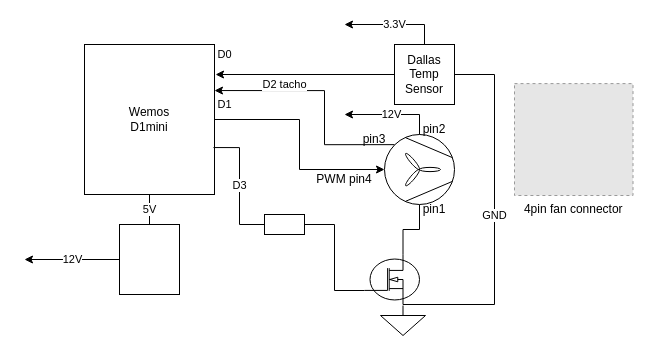
This 651x353 diagram has some shape labels left out. Grey dashed boxes stand in for pictures. Here are the shapes that lost their labels. From the top down, the centre of each, then its label:
At point (284, 224): "1k".
At point (149, 259): "DC/DC 12 -> 5".
